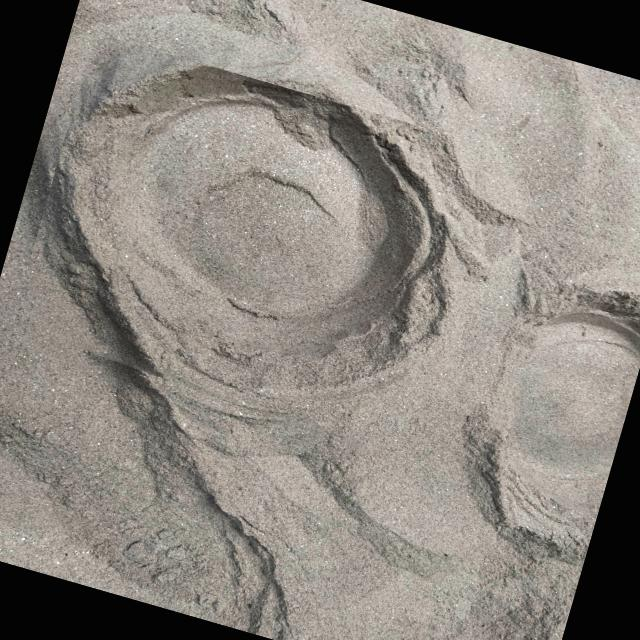C20: (59, 69, 442, 412), (491, 306, 640, 550)
